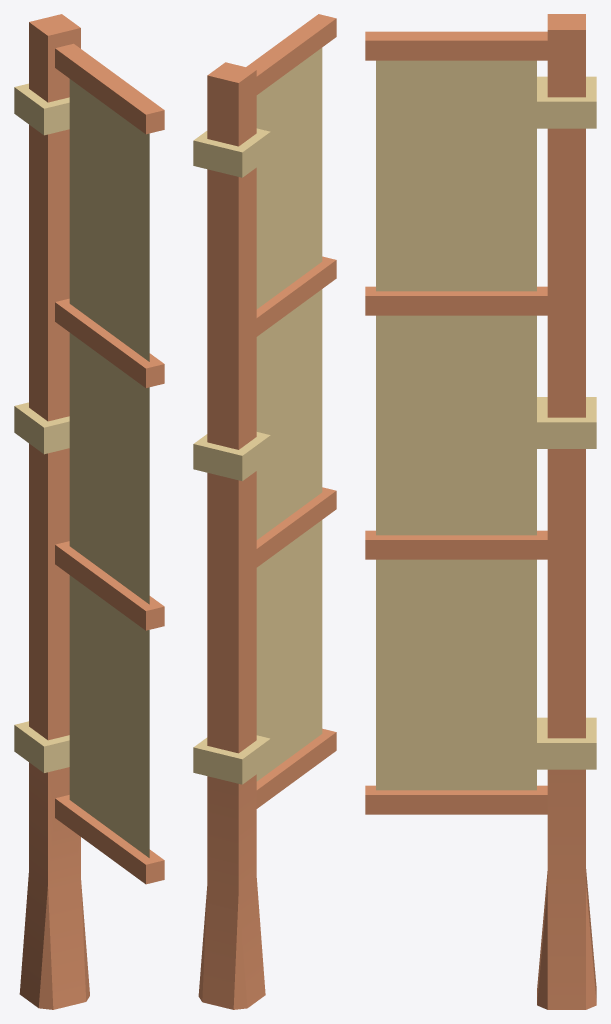
File: blade.obj
3 views of the same model, side by side, from view 1: azimuth 30°, elevation 25°; view 2: azimuth 150°, elevation 25°; view 3: azimuth 270°, elevation 25° (orthographic). The views are drawn at different scales.
Visible parts, largest first — view 1: blade; view 2: blade; view 3: blade.
Boxes of the visible parts, x1,y1,x2,y2 form: blade: (14, 14, 164, 1009); blade: (193, 14, 336, 1009); blade: (365, 14, 596, 1009).
Bounding box in the file's own units: 0.111 × 2 × 0.4304.
